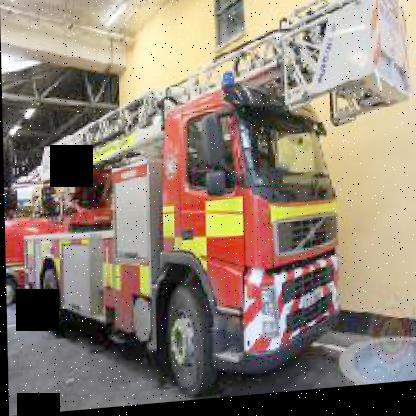emergency: (7, 0, 415, 414)
